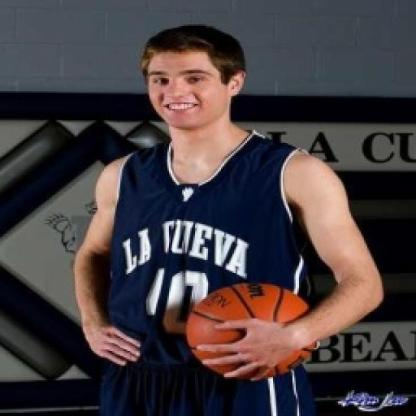basketball: (182, 278, 322, 382)
